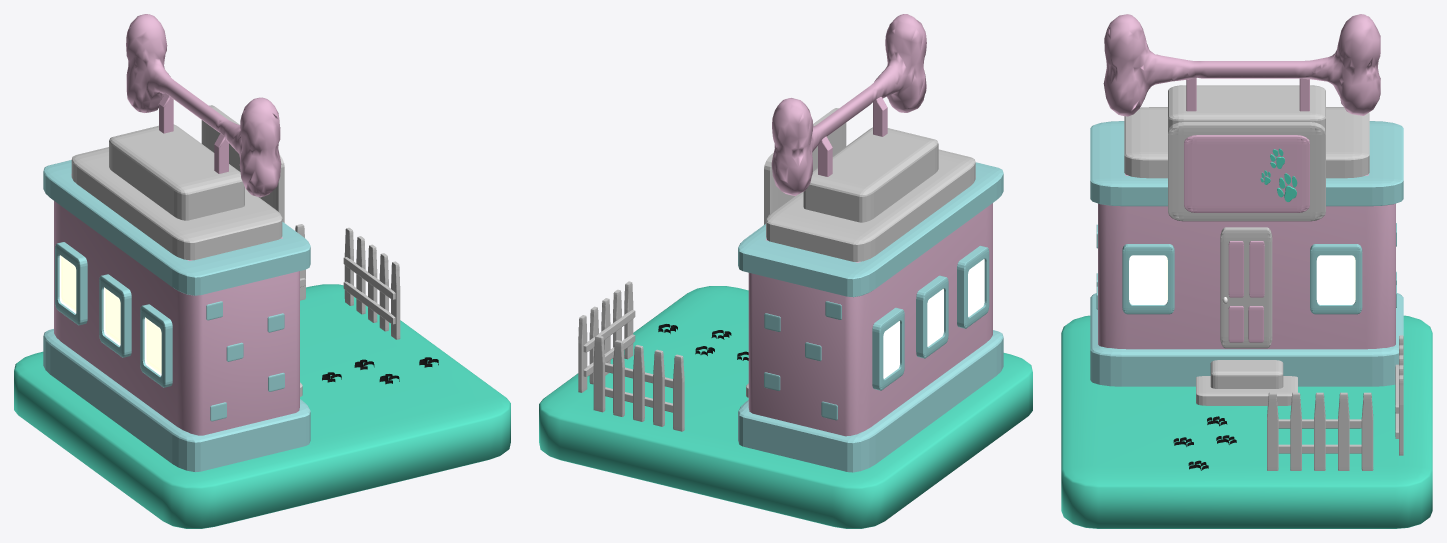
The model's file is nhadienthoai.glb.
The picture shows the model from 3 angles, left to right: view 1: azimuth 30°, elevation 25°; view 2: azimuth 150°, elevation 25°; view 3: azimuth 270°, elevation 25°; orthographic projection. The views are drawn at different scales.
Parts seen in each view (by area): view 1: Roundcube.028; view 2: Roundcube.028; view 3: Roundcube.028.
Part boxes in pixels (bbox=[...]): Roundcube.028: bbox=[14, 14, 510, 528]; Roundcube.028: bbox=[539, 14, 1032, 528]; Roundcube.028: bbox=[1061, 14, 1432, 528].
Bounding box in the file's own units: 9.28 × 10.07 × 8.45.
